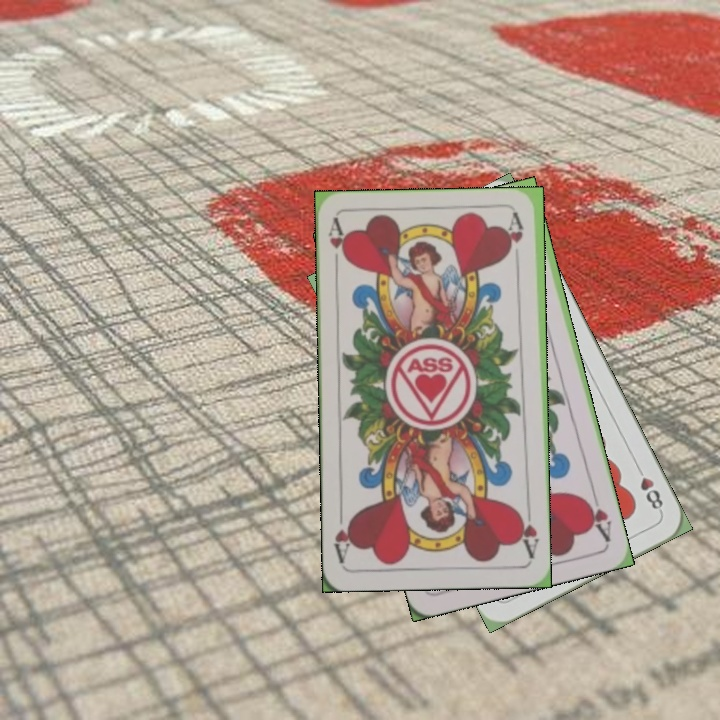H8: (631, 461, 666, 516)
HA: (581, 486, 614, 545), (514, 502, 542, 561), (324, 216, 350, 275)
